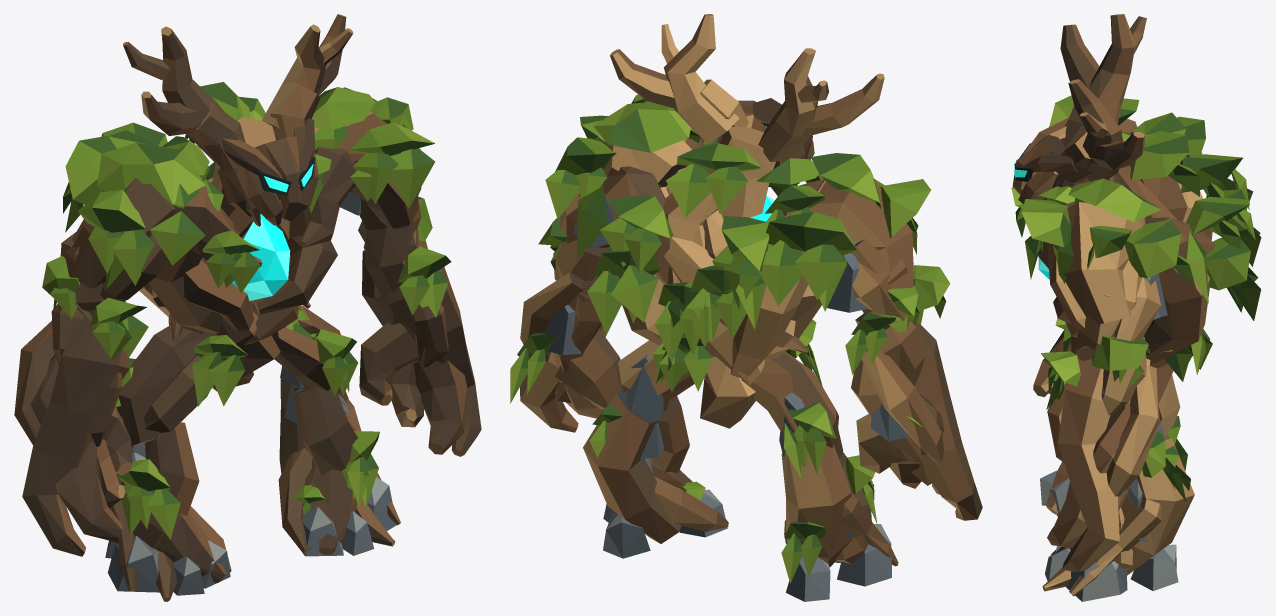
File: tide-root-colossus-complete-character-refined.glb
3 views of the same model, side by side, from view 1: azimuth 30°, elevation 25°; view 2: azimuth 150°, elevation 25°; view 3: azimuth 270°, elevation 25° (orthographic). The views are drawn at different scales.
Parts seen in each view (by area): view 1: Forearm main to outer claw -1, Thigh load root -1, Left scapula saddle, Calf crossing root 1, Forearm main to outer claw 1, Middle root digit 1, Calf crossing root -1, Middle root digit -1, Opposed root thumb 1, Right diagonal cradle, Arm descending trunk 1, Outer shoulder root -1 (+78 smaller); view 2: Calf rear load 1, Forearm main to outer claw -1, Calf rear load -1, Outer shoulder root -1, Crown right main, Forearm root split -1, Right high shoulder island, Thigh load root -1, Crown left main, Flank bowed trunk -1, Opposed root thumb 1, Rear diagonal trunk (+67 smaller); view 3: Forearm main to outer claw 1, Outer shoulder root 1, Flank bowed trunk 1, Forearm root split 1, Calf rear load 1, Crown left main, Right rear outer fall, Right high shoulder island, Crown right main, Nape tucked island, Lower leg lateral root 1, Right shoulder front fold (+51 smaller).
Boxes of the visible parts, x1,y1,x2,y2 form: Forearm main to outer claw -1: (22,317,129,556); Thigh load root -1: (116,325,216,446); Left scapula saddle: (97,142,205,204); Calf crossing root 1: (293,387,357,475); Forearm main to outer claw 1: (378,241,481,456); Middle root digit 1: (414,360,466,454); Calf crossing root -1: (116,422,199,549); Middle root digit -1: (55,441,122,542); Opposed root thumb 1: (359,322,419,405); Right diagonal cradle: (254,224,337,314); Arm descending trunk 1: (350,189,421,305); Outer shoulder root -1: (66,177,175,288); Calf rear load 1: (583,392,681,543); Forearm main to outer claw -1: (910,320,982,520); Calf rear load -1: (781,445,852,567); Outer shoulder root -1: (787,179,913,288); Crown right main: (664,14,739,144); Forearm root split -1: (861,350,944,461); Right high shoulder island: (593,102,691,152); Thigh load root -1: (741,353,843,459); Crown left main: (758,48,817,161); Flank bowed trunk -1: (730,276,807,378); Opposed root thumb 1: (555,329,621,409); Rear diagonal trunk: (663,168,764,384); Forearm main to outer claw 1: (1058,358,1119,571); Outer shoulder root 1: (1063,202,1145,324); Flank bowed trunk 1: (1144,267,1209,363); Forearm root split 1: (1106,365,1159,496); Calf rear load 1: (1126,438,1194,575); Crown left main: (1081,14,1135,136); Right rear outer fall: (1124,220,1181,278); Right high shoulder island: (1068,178,1161,221); Crown right main: (1068,79,1122,179); Nape tucked island: (1129,131,1189,180); Lower leg lateral root 1: (1069,499,1161,596); Right shoulder front fold: (1021,199,1070,247).
Bounding box in the file's own units: 5.37 × 6.06 × 2.75.
